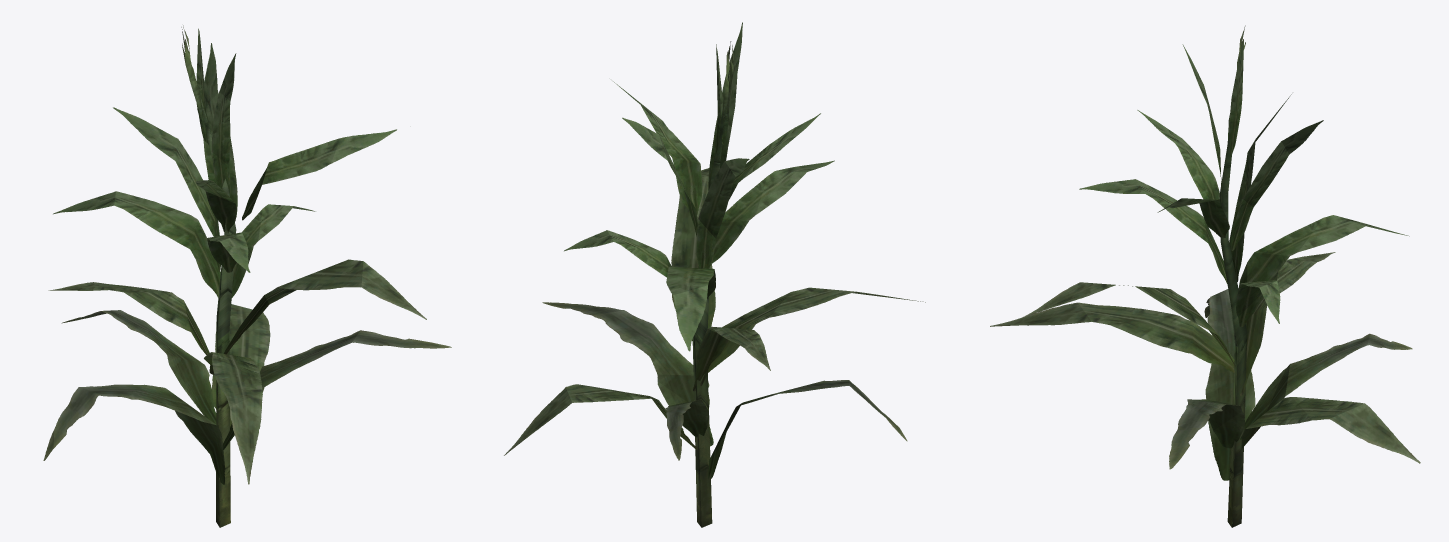
File: bg_anh_foliage_crops11_sm_ksy.FBX
3 renders of one model, left to right at view 1: azimuth 30°, elevation 25°; view 2: azimuth 150°, elevation 25°; view 3: azimuth 270°, elevation 25°, orthographic. The views are drawn at different scales.
Visible parts, largest first — view 1: bg_anh_foliage_crops11_sm_ksy; view 2: bg_anh_foliage_crops11_sm_ksy; view 3: bg_anh_foliage_crops11_sm_ksy.
Part boxes in pixels (x1,y1,x2,y2): bg_anh_foliage_crops11_sm_ksy: (43, 25, 451, 527); bg_anh_foliage_crops11_sm_ksy: (504, 22, 925, 527); bg_anh_foliage_crops11_sm_ksy: (990, 25, 1420, 527).
Size of the model in its own units: 118 by 143 by 122.
